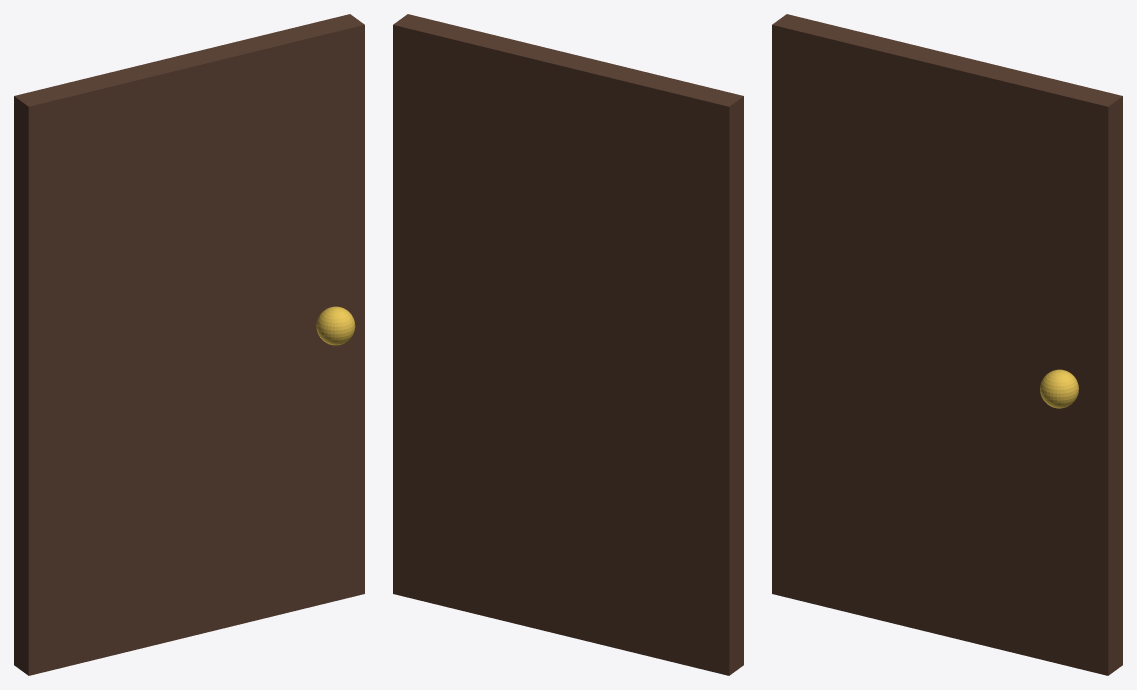
Rendered from Porta.fbx.
3 views of the same model, side by side, from view 1: azimuth 30°, elevation 25°; view 2: azimuth 150°, elevation 25°; view 3: azimuth 330°, elevation 25° (orthographic).
Visible parts, largest first — view 1: Cube, Sphere; view 2: Cube; view 3: Cube, Sphere.
Boxes of the visible parts, x1,y1,x2,y2 form: Cube: (14, 14, 364, 675); Sphere: (316, 306, 355, 345); Cube: (393, 14, 743, 675); Cube: (772, 14, 1122, 675); Sphere: (1040, 369, 1078, 408).
Size of the model in its own units: 2.84 by 4.6 by 0.502.
